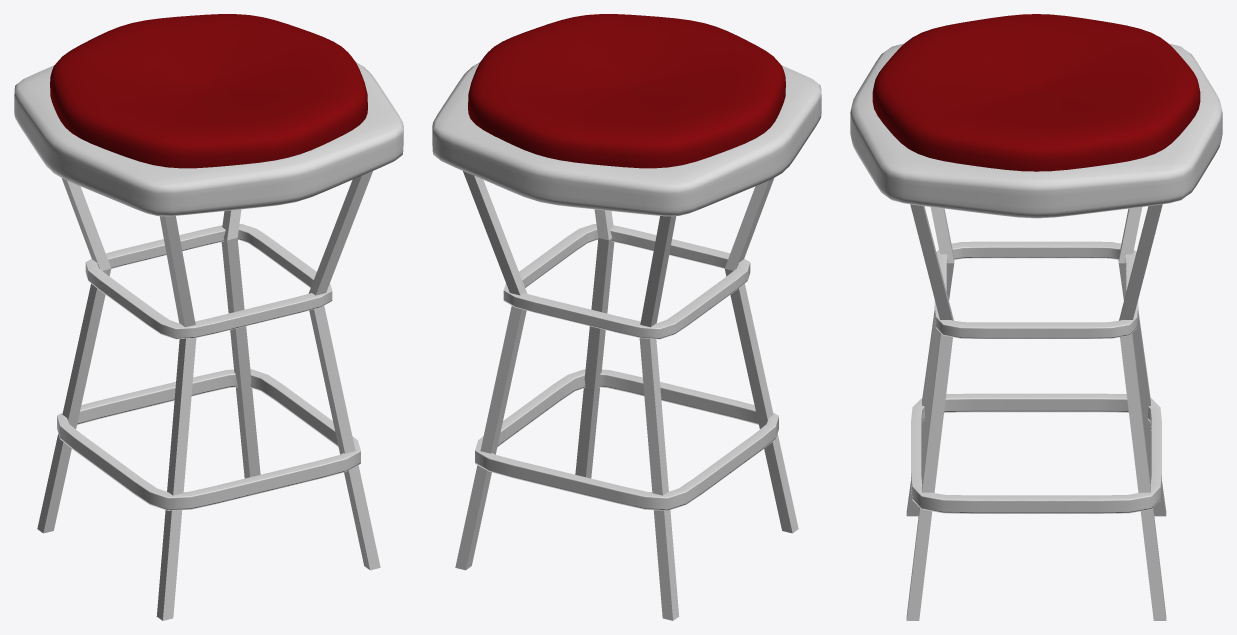
The model's file is Stool.fbx.
The picture shows the model from 3 angles, left to right: view 1: azimuth 30°, elevation 25°; view 2: azimuth 150°, elevation 25°; view 3: azimuth 270°, elevation 25°; orthographic projection. The views are drawn at different scales.
Parts seen in each view (by area): view 1: Cube.001, Cube.002, Cube, Cube.003, Cube.004; view 2: Cube.001, Cube.002, Cube, Cube.003, Cube.004; view 3: Cube.001, Cube, Cube.002, Cube.003, Cube.004.
Boxes of the visible parts, left/top/right/bottom form: Cube.001: left=50, top=14, right=367, bottom=168; Cube.002: left=37, top=171, right=380, bottom=620; Cube: left=14, top=62, right=403, bottom=216; Cube.003: left=57, top=369, right=360, bottom=510; Cube.004: left=85, top=224, right=332, bottom=339; Cube.001: left=468, top=14, right=785, bottom=168; Cube.002: left=455, top=171, right=798, bottom=620; Cube: left=432, top=62, right=821, bottom=216; Cube.003: left=475, top=369, right=778, bottom=510; Cube.004: left=503, top=224, right=750, bottom=339; Cube.001: left=872, top=14, right=1200, bottom=171; Cube: left=850, top=43, right=1222, bottom=218; Cube.002: left=906, top=204, right=1166, bottom=620; Cube.003: left=911, top=393, right=1161, bottom=513; Cube.004: left=934, top=241, right=1138, bottom=338.
Size of the model in its own units: 224 by 326 by 224.
